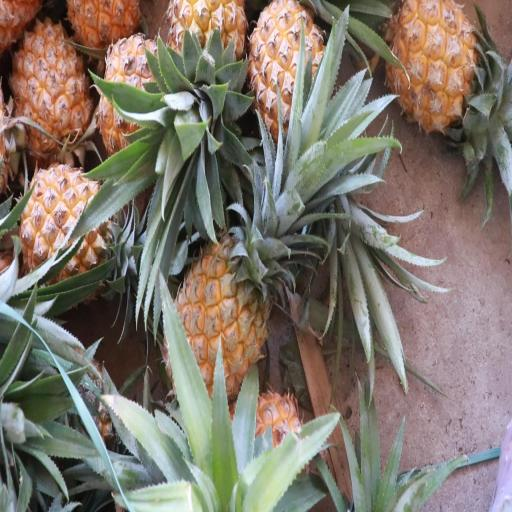Pineapple - v8 v1: (160, 225, 295, 419), (14, 152, 130, 310), (244, 0, 338, 170), (94, 26, 192, 187), (383, 0, 484, 142), (160, 0, 253, 152), (8, 14, 94, 171)
